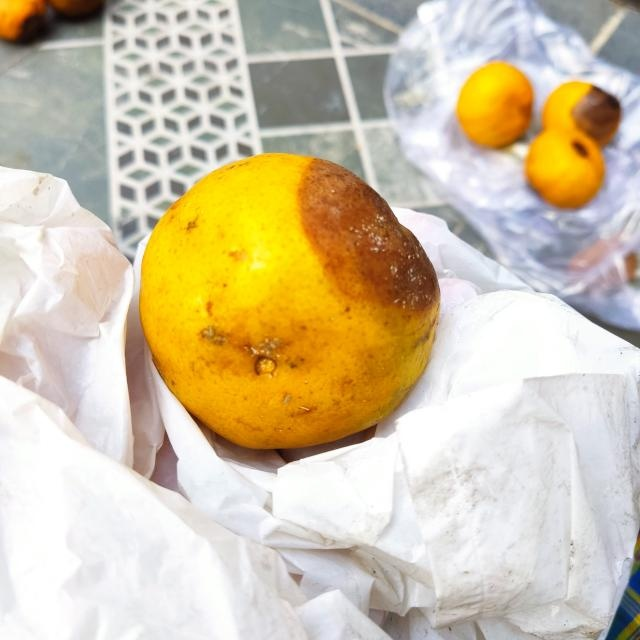agrume: (139, 152, 439, 455)
